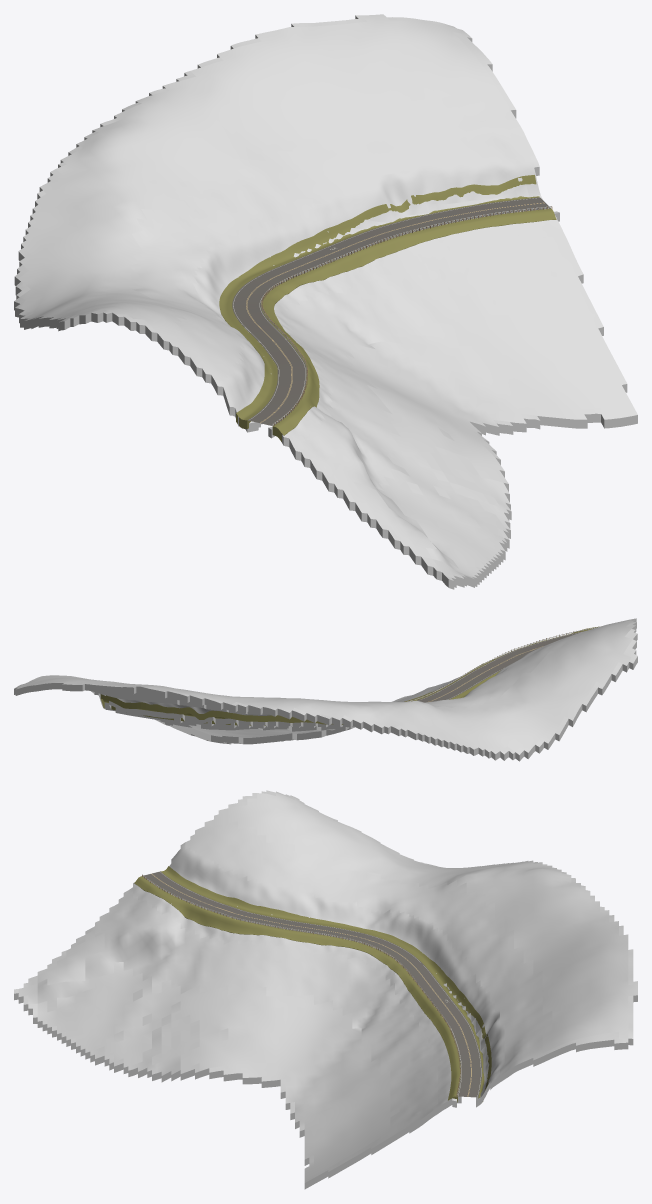
File: conz_9.glb
The picture shows the model from 3 angles, top to bottom: view 1: azimuth 30°, elevation 25°; view 2: azimuth 150°, elevation 25°; view 3: azimuth 270°, elevation 25°; orthographic projection. The views are drawn at different scales.
Parts seen in each view (by area): view 1: terrain9, road9, verge9R, verge9L; view 2: terrain9, verge9R, road9, verge9L, beam9_10075; view 3: terrain9, road9, verge9L, verge9R.
Boxes of the visible parts, x1,y1,x2,y2 form: terrain9: [14, 14, 637, 589]; road9: [232, 197, 550, 425]; verge9R: [219, 175, 539, 428]; verge9L: [261, 208, 556, 441]; terrain9: [14, 618, 637, 761]; verge9R: [100, 671, 499, 725]; road9: [417, 631, 583, 702]; verge9L: [404, 626, 599, 701]; beam9_10075: [407, 627, 598, 701]; terrain9: [14, 790, 637, 1189]; road9: [143, 871, 482, 1097]; verge9L: [134, 876, 460, 1102]; verge9R: [161, 866, 491, 1102].
Bounding box in the file's own units: 224 × 91.44 × 262.
